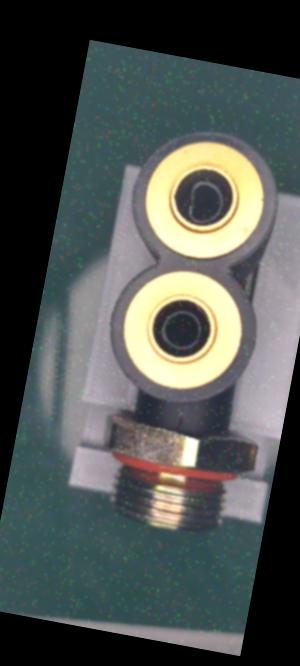craze: (170, 410, 186, 435)
off-centered: (171, 172, 234, 232)
